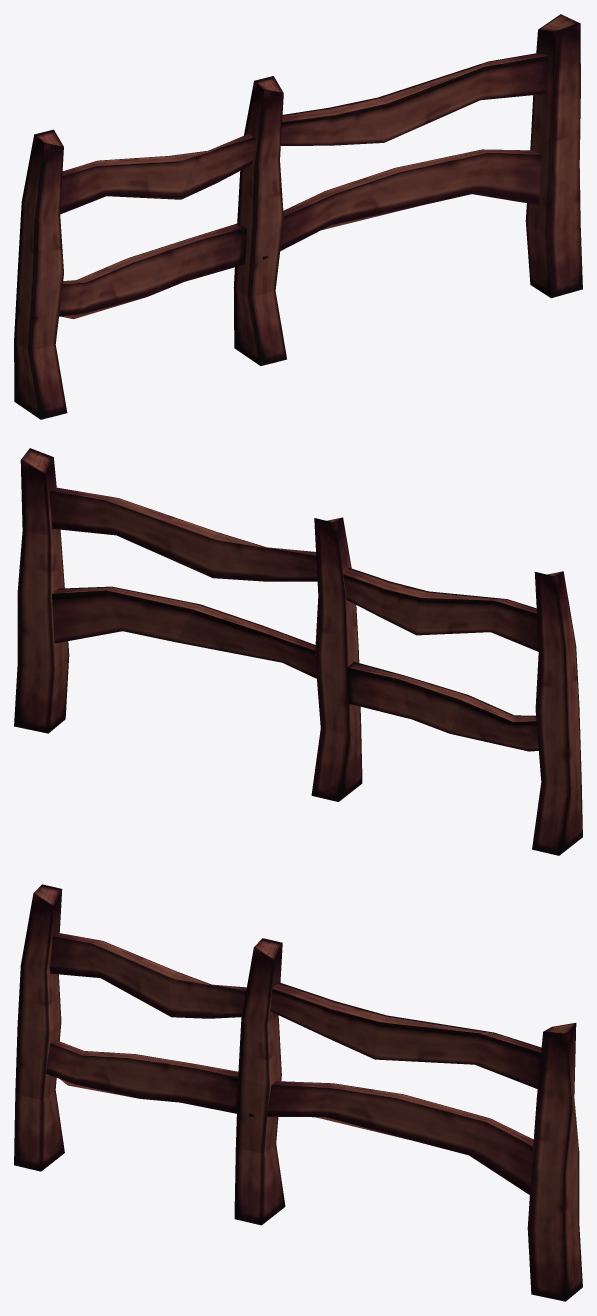
File: fence3.glb
3 renders of one model, top to bottom at view 1: azimuth 30°, elevation 25°; view 2: azimuth 150°, elevation 25°; view 3: azimuth 330°, elevation 25°, orthographic.
Parts seen in each view (by area): view 1: Cube.007, Cube.003, Cube.002, Cube.006, Cube.001, Cube.005, Cube.004; view 2: Cube.007, Cube.003, Cube.002, Cube.001, Cube.006, Cube.005, Cube.004; view 3: Cube.007, Cube.002, Cube.001, Cube.006, Cube.003, Cube.005, Cube.004.
Boxes of the visible parts, x1=… form: Cube.007: x1=525, y1=14, x2=582, y2=298; Cube.003: x1=14, y1=129, x2=67, y2=419; Cube.002: x1=263, y1=149, x2=541, y2=259; Cube.006: x1=233, y1=76, x2=286, y2=365; Cube.001: x1=281, y1=52, x2=548, y2=145; Cube.005: x1=33, y1=223, x2=246, y2=319; Cube.004: x1=60, y1=134, x2=255, y2=214; Cube.007: x1=14, y1=448, x2=69, y2=733; Cube.003: x1=532, y1=571, x2=582, y2=855; Cube.002: x1=52, y1=586, x2=316, y2=678; Cube.001: x1=49, y1=487, x2=317, y2=581; Cube.006: x1=311, y1=517, x2=362, y2=801; Cube.005: x1=347, y1=661, x2=538, y2=751; Cube.004: x1=343, y1=567, x2=538, y2=651; Cube.007: x1=527, y1=1023, x2=582, y2=1301; Cube.002: x1=248, y1=1081, x2=533, y2=1194; Cube.001: x1=270, y1=982, x2=541, y2=1088; Cube.006: x1=234, y1=938, x2=285, y2=1225; Cube.003: x1=14, y1=884, x2=64, y2=1171; Cube.005: x1=18, y1=1040, x2=238, y2=1113; Cube.004: x1=50, y1=933, x2=246, y2=1018.
Bounding box in the file's own units: 1.07 × 0.508 × 0.0848.
7 materials, 7 textured.
